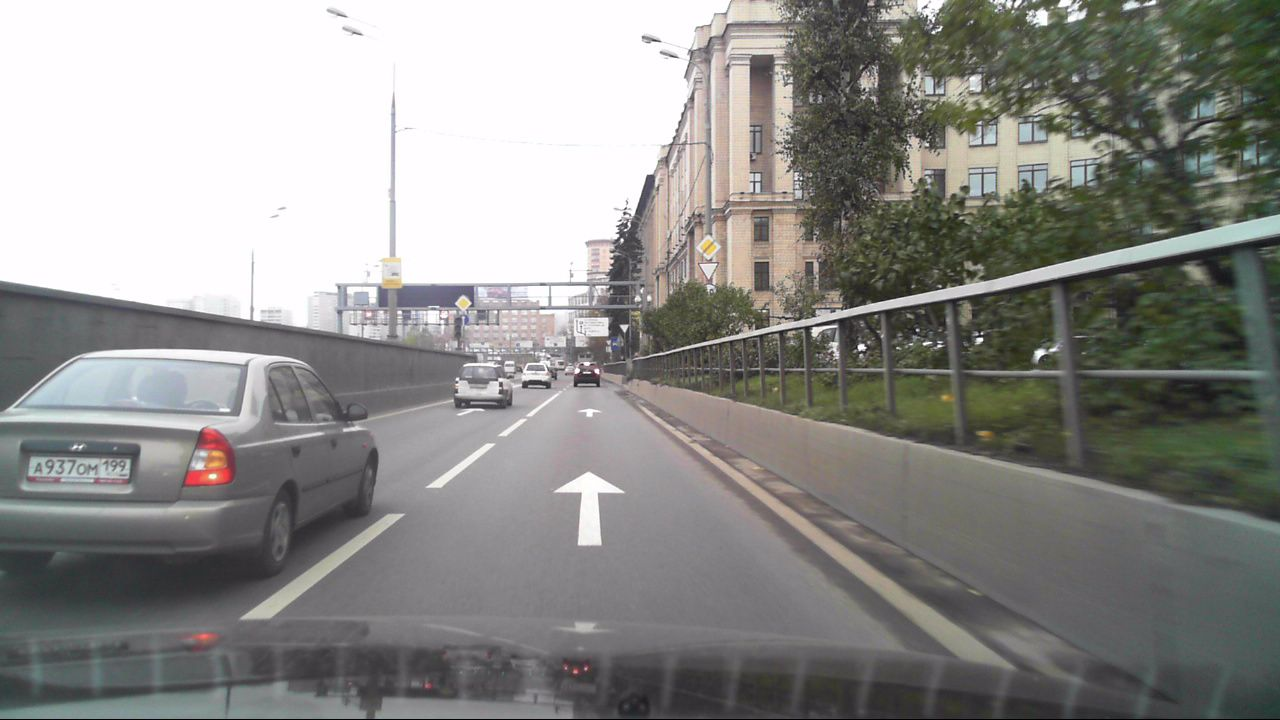main road: (697, 234, 720, 259)
